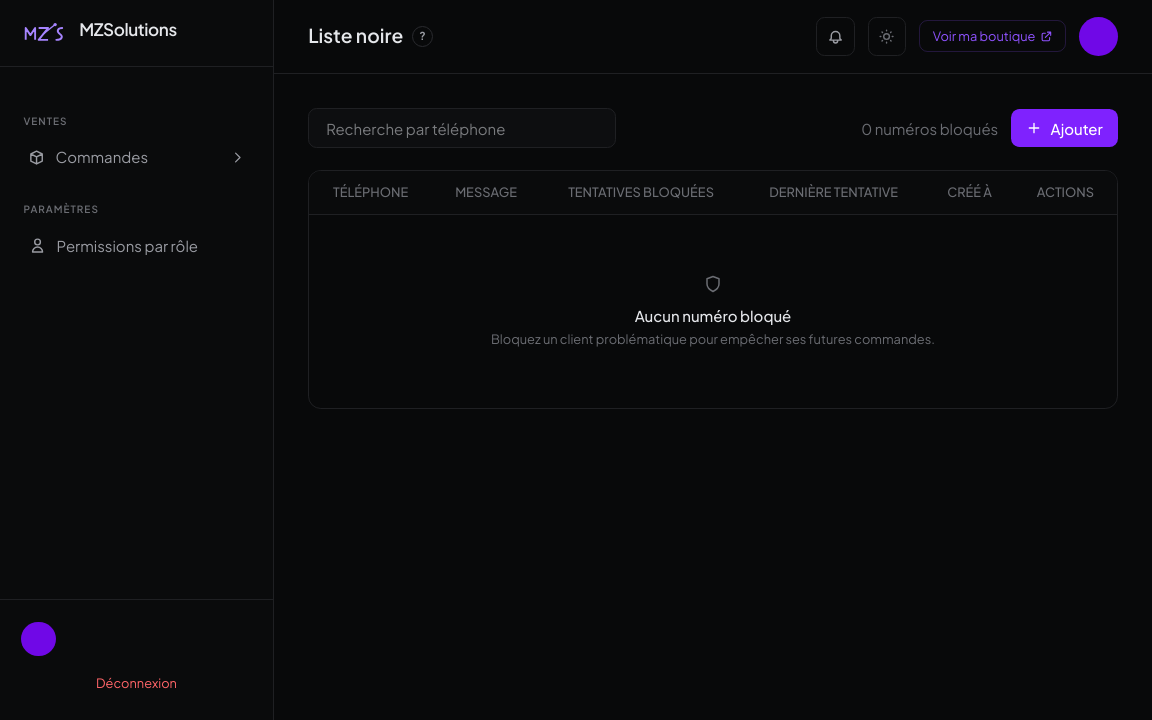
it: BlacklistPage › shows a server-side field error when blocking fails
Expected: the text "Aucun numéro bloqué" is shown, [635,305,791,327]
Click the button "Ajouter" at (1064, 128), box [1011,109,1118,148]
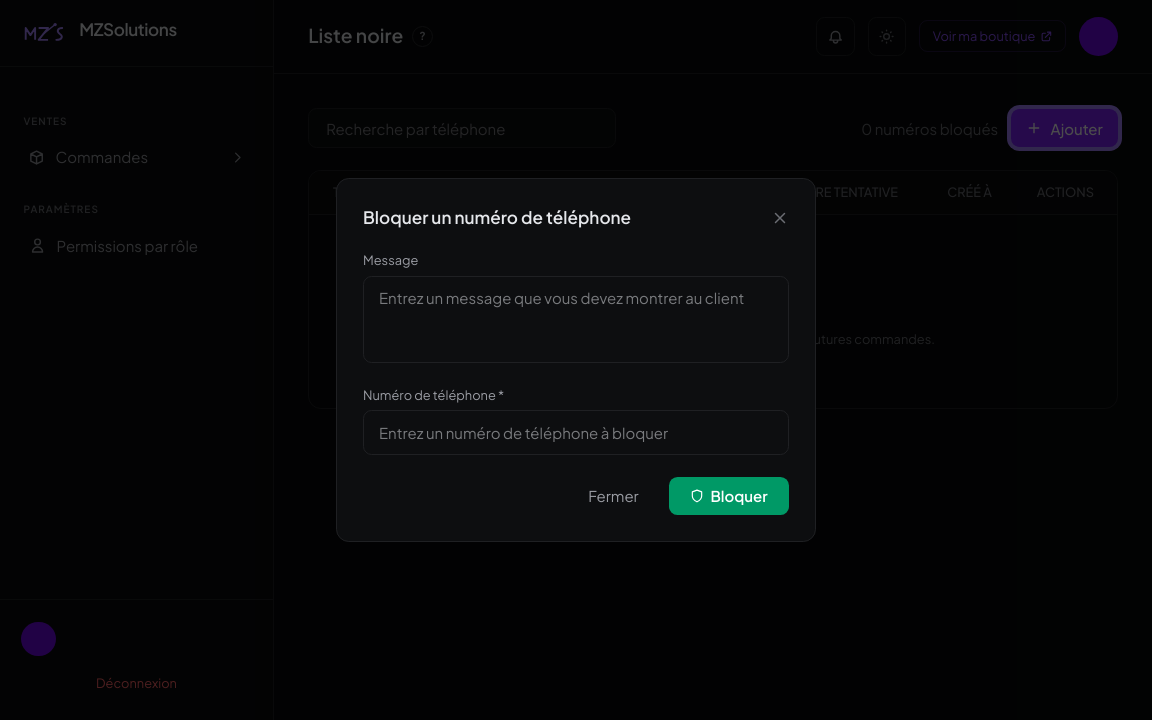
Type "0666111222" into the field with placeholder "Entrez un numéro de téléphone à bloquer" at (576, 433), box [363,410,789,455]
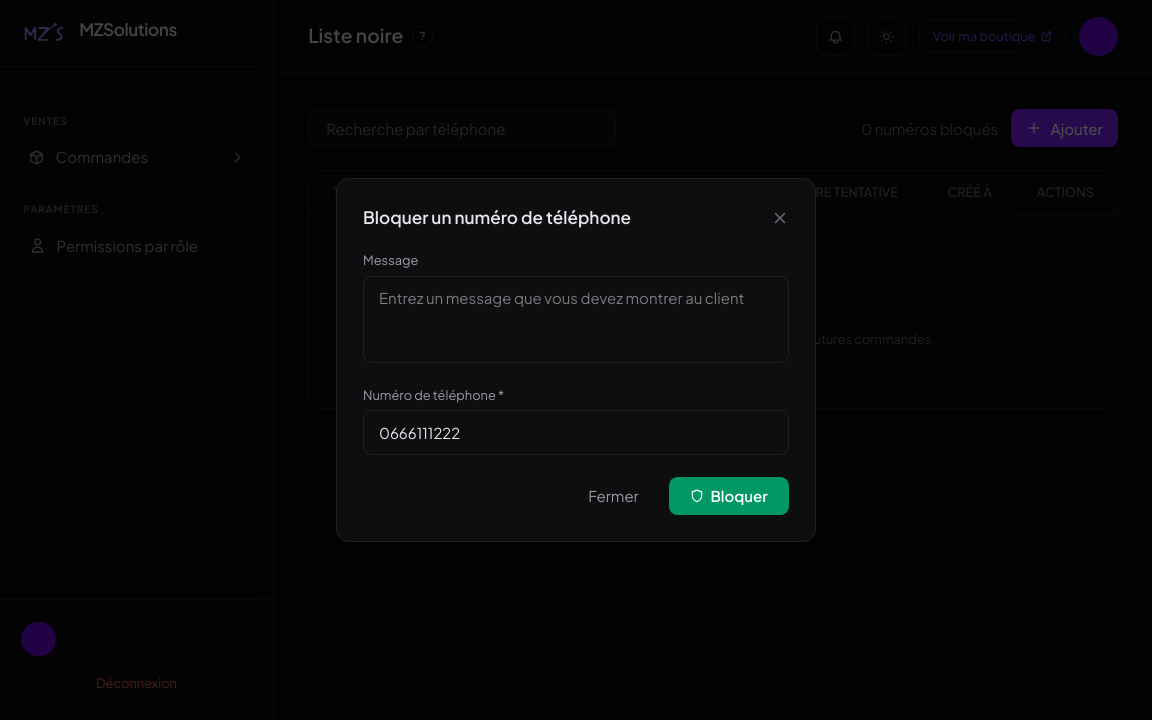
Click the button "Bloquer" at (729, 496), box [669,476,789,515]
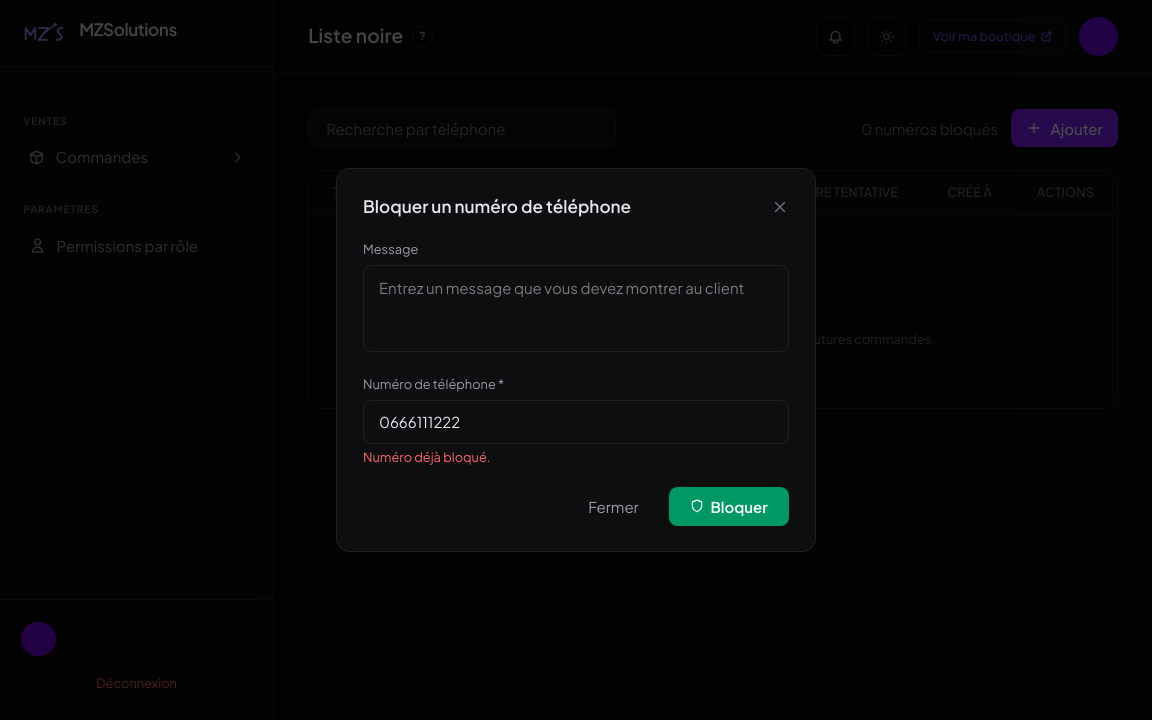
Now the text "Numéro déjà bloqué." is shown, box [363,449,490,465]
